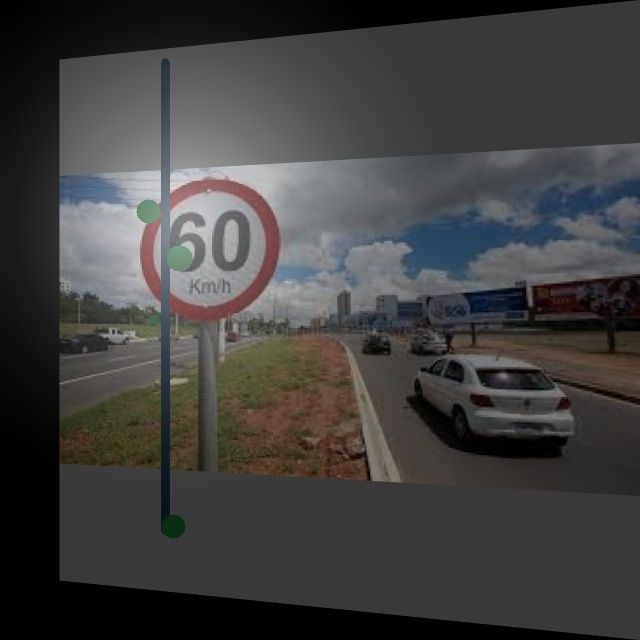Speed_Limit_60: (142, 171, 275, 320)
